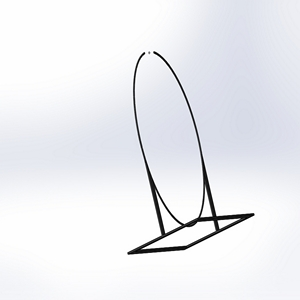circle: (125, 48, 255, 255)
